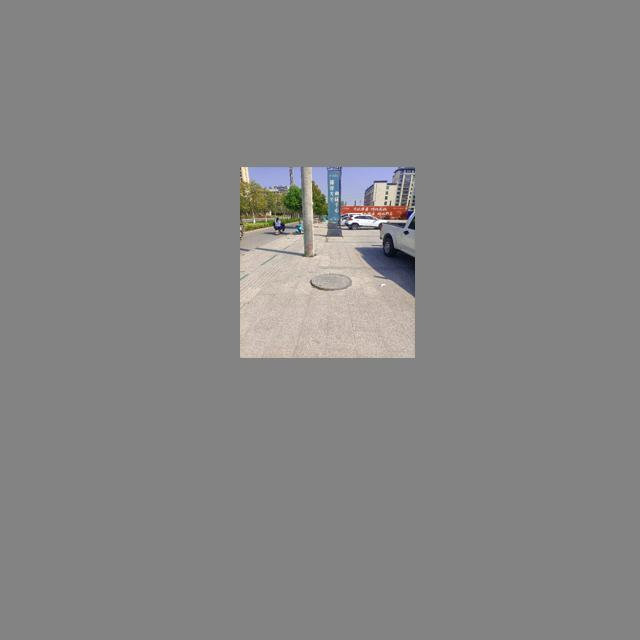good: (311, 273, 351, 290)
